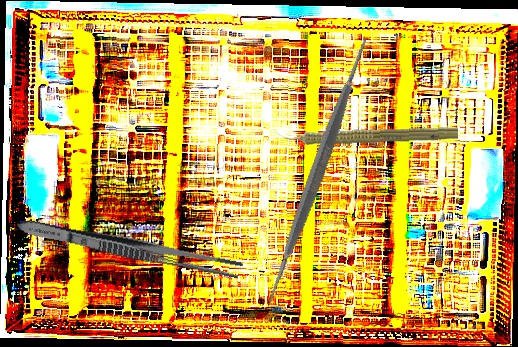Dressing Forceps: (14, 214, 245, 281)
Handpiece: (273, 119, 459, 149)
Spatula Surgical: (178, 32, 456, 310)
